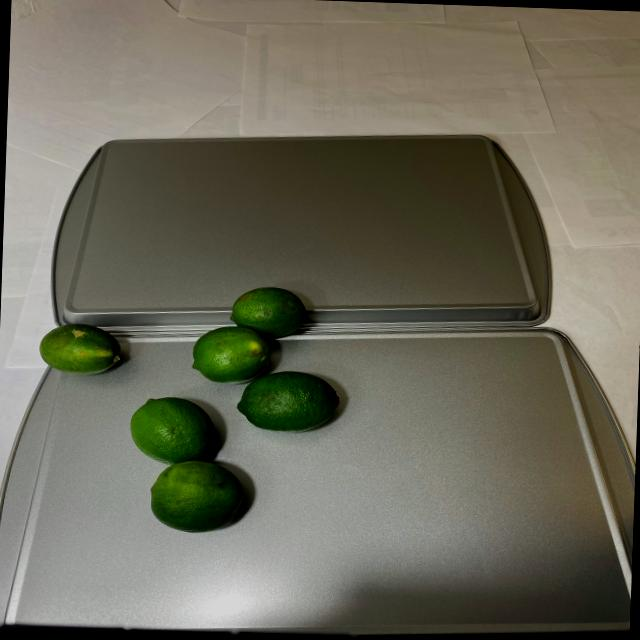lemon: (130, 278, 356, 532), (36, 324, 122, 376)
